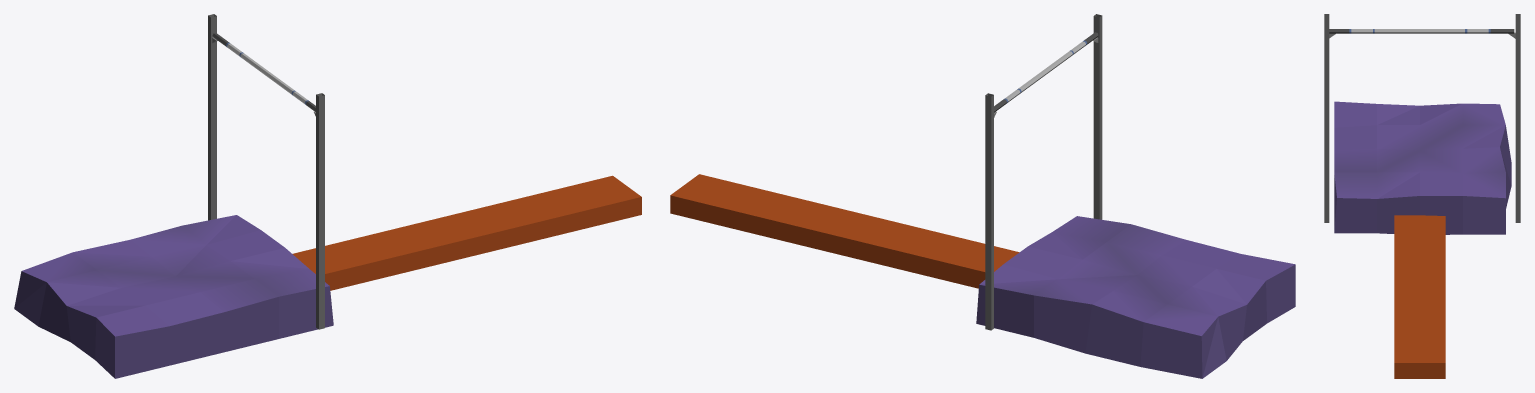
Rendered from high_jump_01.fbx.
3 renders of one model, left to right at view 1: azimuth 30°, elevation 25°; view 2: azimuth 150°, elevation 25°; view 3: azimuth 270°, elevation 25°, orthographic. The views are drawn at different scales.
Visible parts, largest first — view 1: high_jump_01; view 2: high_jump_01; view 3: high_jump_01.
Part boxes in pixels (box(x1,y1,x2,y2)): high_jump_01: box(14, 14, 641, 378); high_jump_01: box(670, 14, 1295, 378); high_jump_01: box(1324, 14, 1520, 378).
Bounding box in the file's own units: 2161 × 879 × 735.
